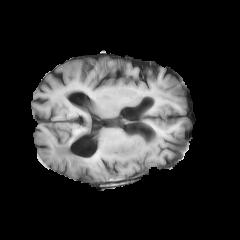glioma: (53, 138, 159, 183)
